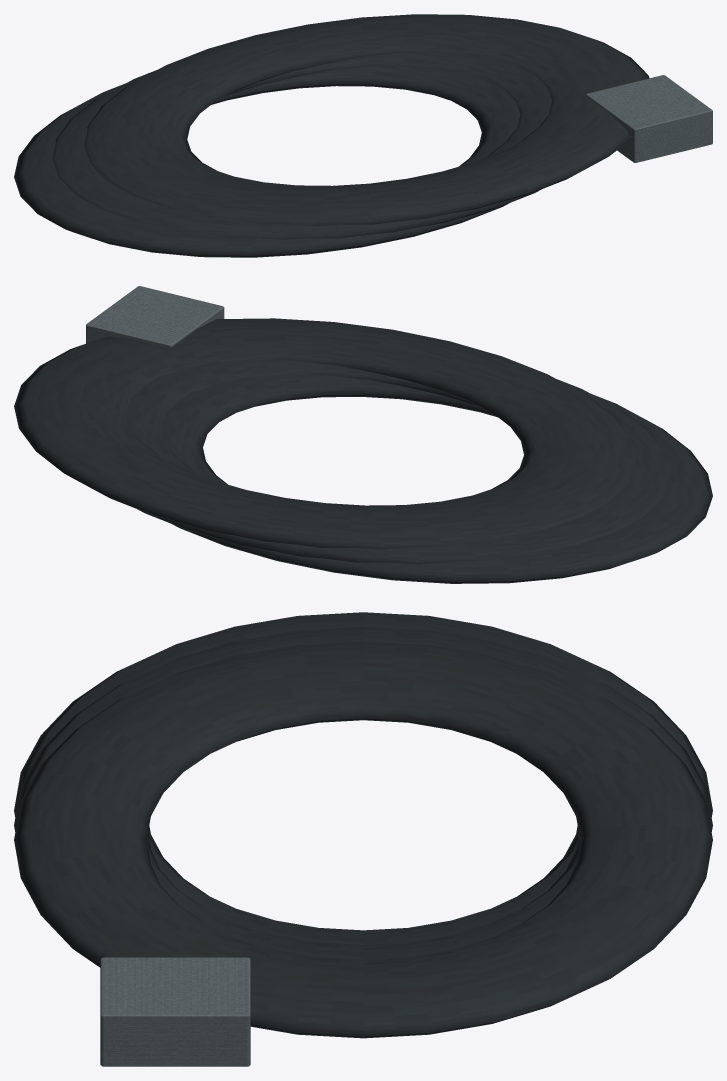
Rendered from usb.glb.
3 renders of one model, top to bottom at view 1: azimuth 30°, elevation 25°; view 2: azimuth 150°, elevation 25°; view 3: azimuth 270°, elevation 25°, orthographic. The views are drawn at different scales.
Parts seen in each view (by area): view 1: loop (×3), plug; view 2: loop (×3), plug; view 3: loop (×3), plug.
Part boxes in pixels (x1,y1,x2,y2): loop (×3): (14, 14, 649, 257); plug: (586, 75, 712, 162); loop (×3): (14, 318, 712, 583); plug: (86, 286, 224, 347); loop (×3): (14, 612, 712, 1038); plug: (100, 957, 250, 1066).
Size of the model in its own units: 0.1523 by 0.0084 by 0.1023.
Materials: 2 (2 with a texture image).
